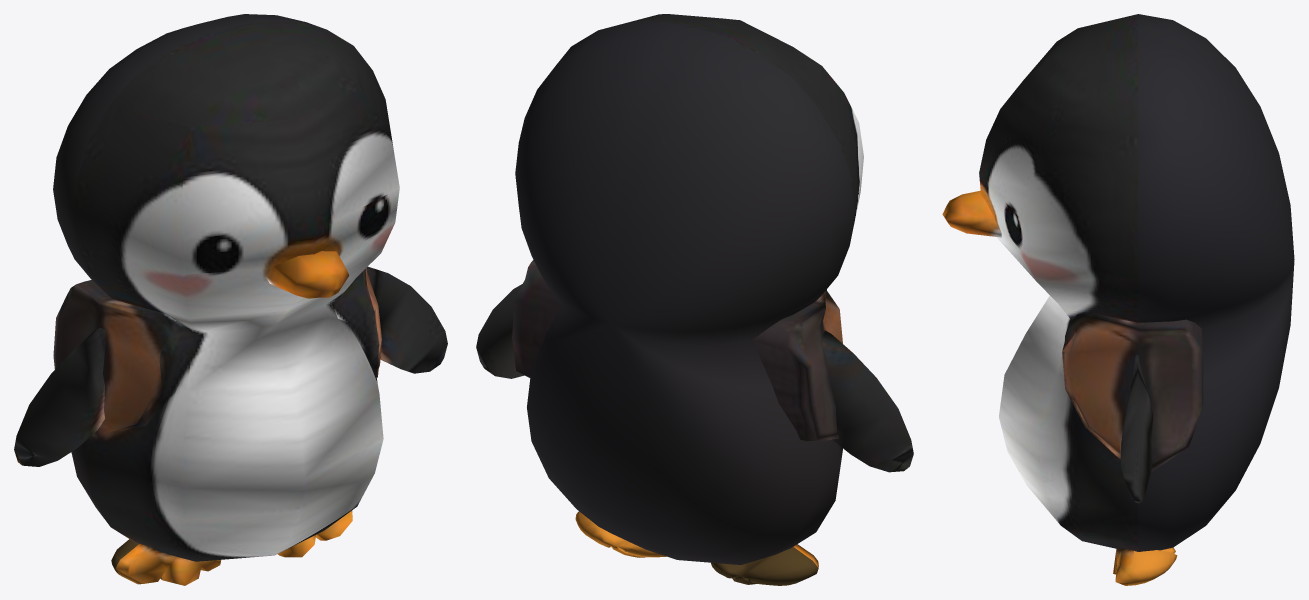
Rendered from penguin-04-33-tiny-backpack-crochet-penguin.gltf.
3 views of the same model, side by side, from view 1: azimuth 30°, elevation 25°; view 2: azimuth 150°, elevation 25°; view 3: azimuth 270°, elevation 25° (orthographic). The views are drawn at different scales.
Visible parts, largest first — view 1: penguin-04-33-tiny-backpack-crochet-penguin; view 2: penguin-04-33-tiny-backpack-crochet-penguin; view 3: penguin-04-33-tiny-backpack-crochet-penguin.
Part boxes in pixels (bbox=[...]): penguin-04-33-tiny-backpack-crochet-penguin: bbox=[14, 14, 447, 585]; penguin-04-33-tiny-backpack-crochet-penguin: bbox=[476, 14, 913, 585]; penguin-04-33-tiny-backpack-crochet-penguin: bbox=[942, 14, 1294, 585].
Bounding box in the file's own units: 0.2 × 0.2364 × 0.1465.
1 material, 1 textured.
